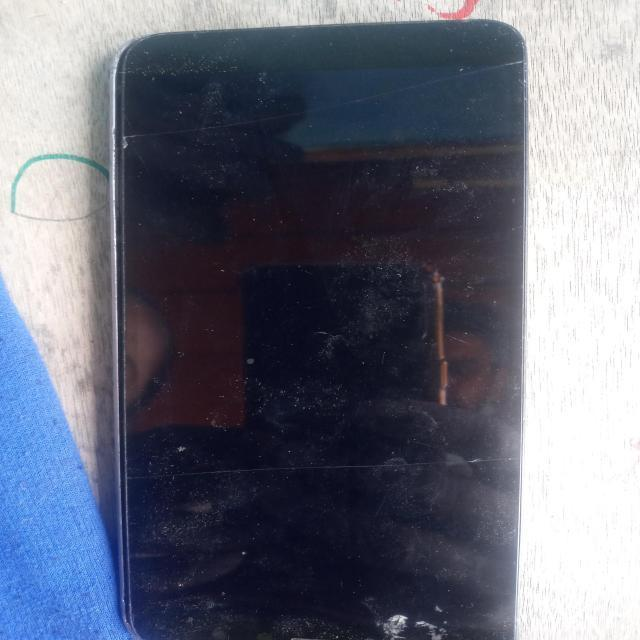cellphone: (60, 19, 598, 640)
